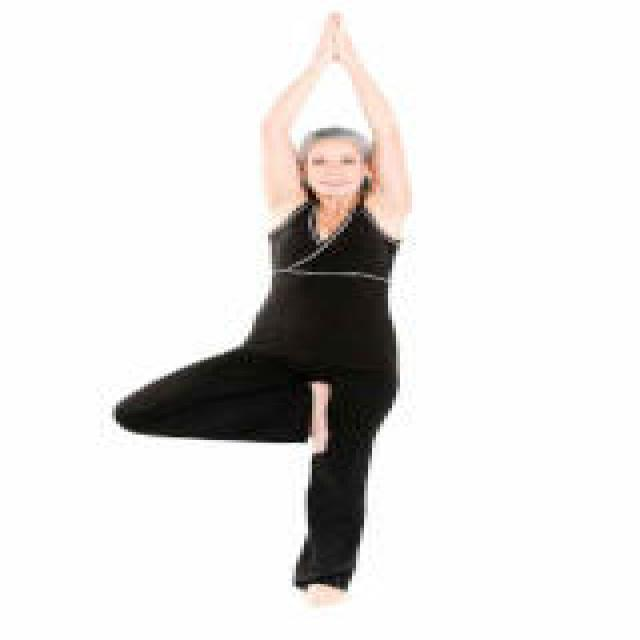yoga-pose tree: (105, 5, 419, 597)
